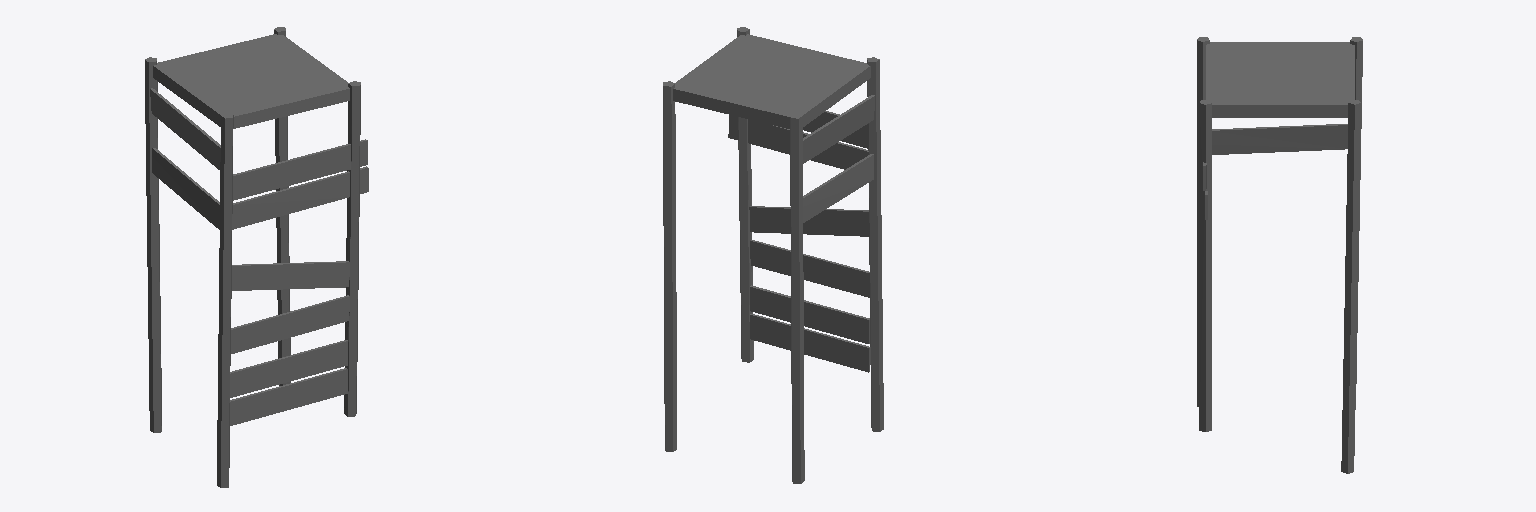
The model's file is plateforme03.obj.
3 views of the same model, side by side, from view 1: azimuth 30°, elevation 25°; view 2: azimuth 150°, elevation 25°; view 3: azimuth 270°, elevation 25° (orthographic).
Bounding box in the file's own units: 1.29 × 3 × 1.23.